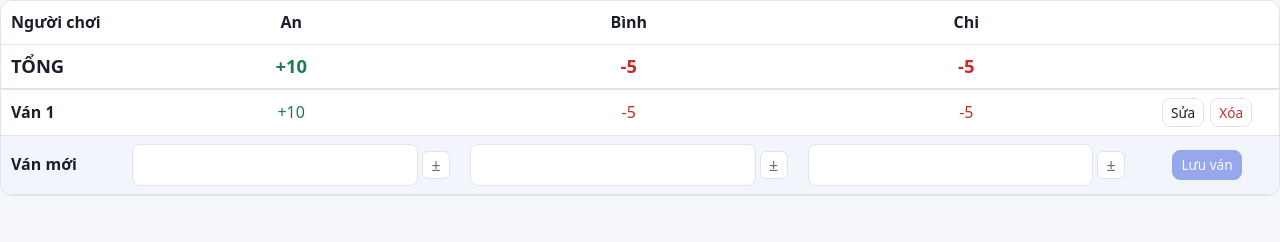
Scenario: ScoreTable new round row › rejects decimals and keeps Save disabled
This screenshot has width=1280, height=242.
Step 1. Type "1.5" into the field named "Ván mới, điểm An" → (275, 165), box [132, 144, 418, 186]
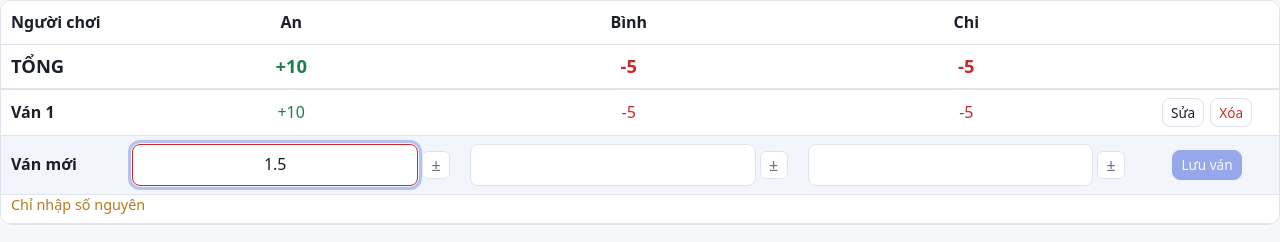
Check: the button "Lưu ván" is disabled, box [1172, 150, 1242, 180]
Check: the text "Chỉ nhập số nguyên" is shown, box [11, 195, 145, 214]
